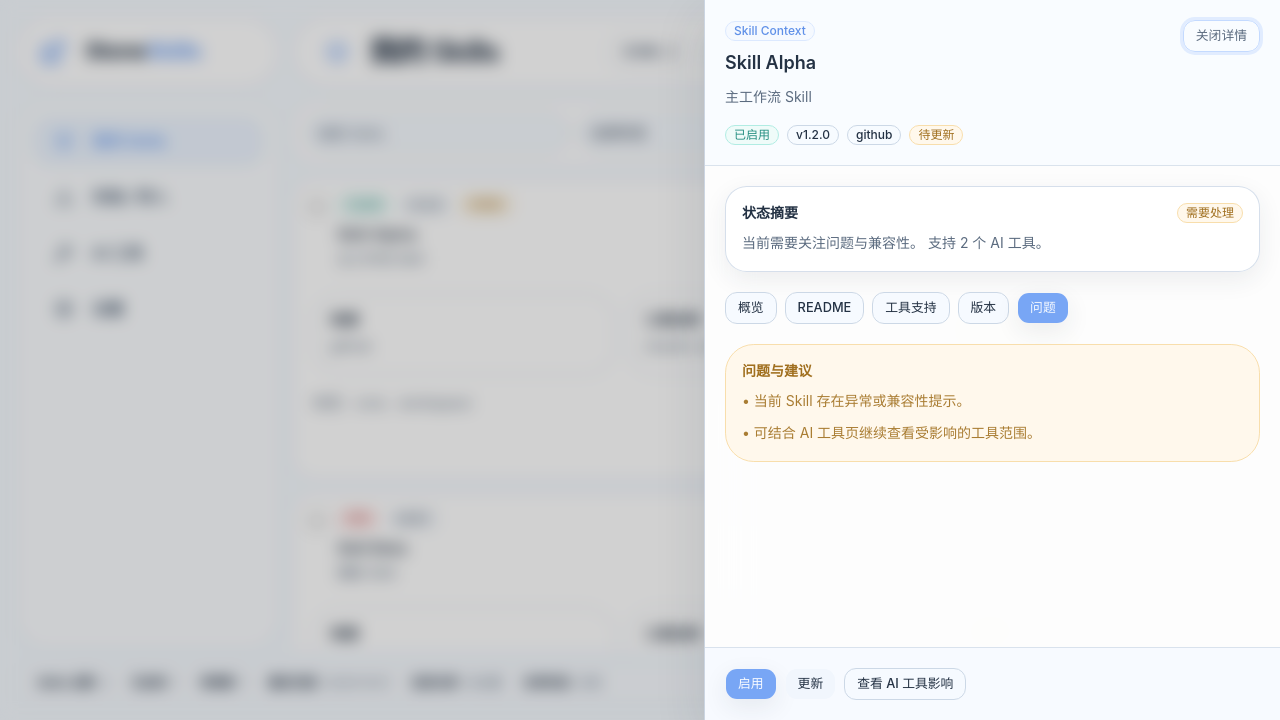
it: SkillsPage › 根据 query 参数打开详情抽屉并支持关闭
Check: the dialog "Skill Alpha" is shown, box [704,0,1279,719]
Check: the text "问题与建议" is shown, box [742,362,812,379]
What coordinates should you click on to do the following:
click the button "关闭详情"
I would click on:
 (1221, 36)
Its box is [1183,20,1260,52].
(page scrolled)
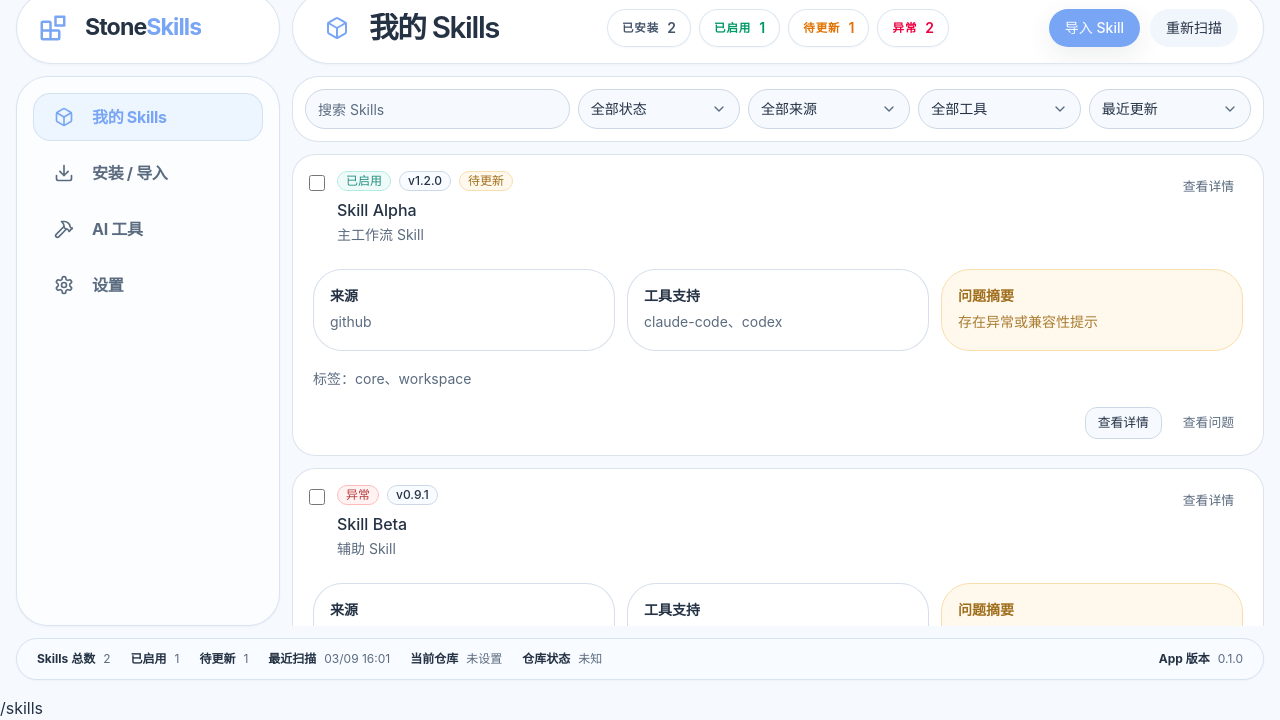
Check: the text with test id "location" reads "/skills", box [0,698,43,718]
